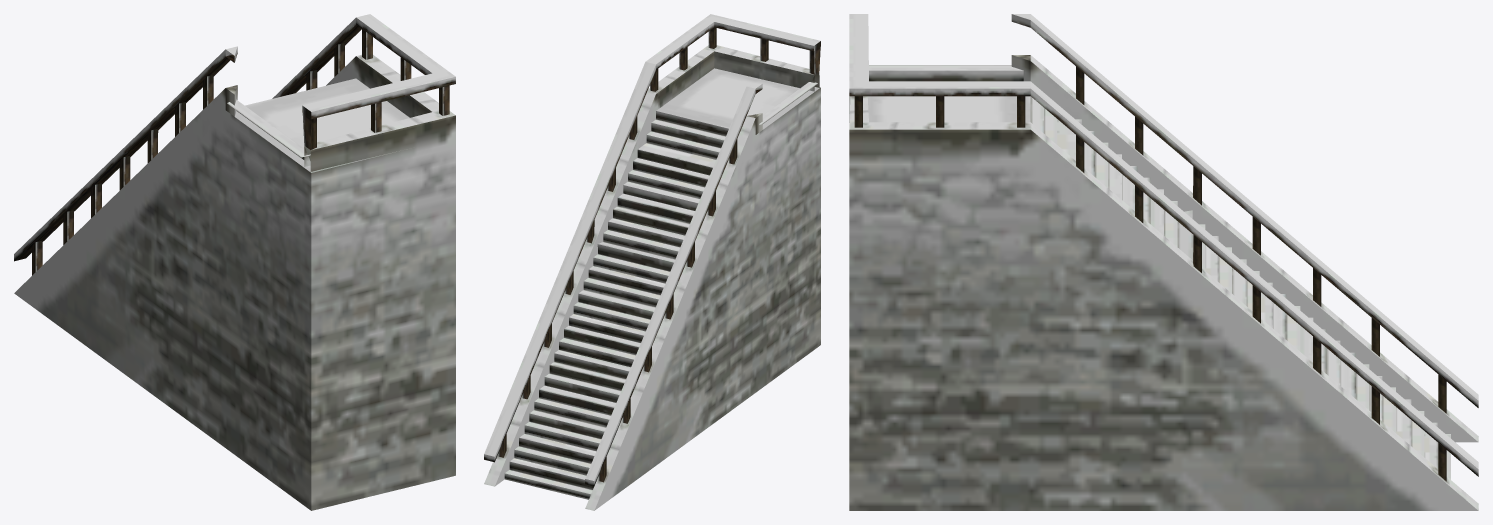
Rendered from general_obj_watchtower03.fbx.
3 renders of one model, left to right at view 1: azimuth 30°, elevation 25°; view 2: azimuth 150°, elevation 25°; view 3: azimuth 270°, elevation 25°, orthographic. The views are drawn at different scales.
Parts seen in each view (by area): view 1: Object02; view 2: Object02; view 3: Object02.
Part boxes in pixels (left/top/right/bottom): Object02: left=14, top=14, right=455, bottom=510; Object02: left=484, top=14, right=820, bottom=510; Object02: left=849, top=14, right=1478, bottom=510.
Size of the model in its own units: 2.91 by 7.49 by 10.12.
